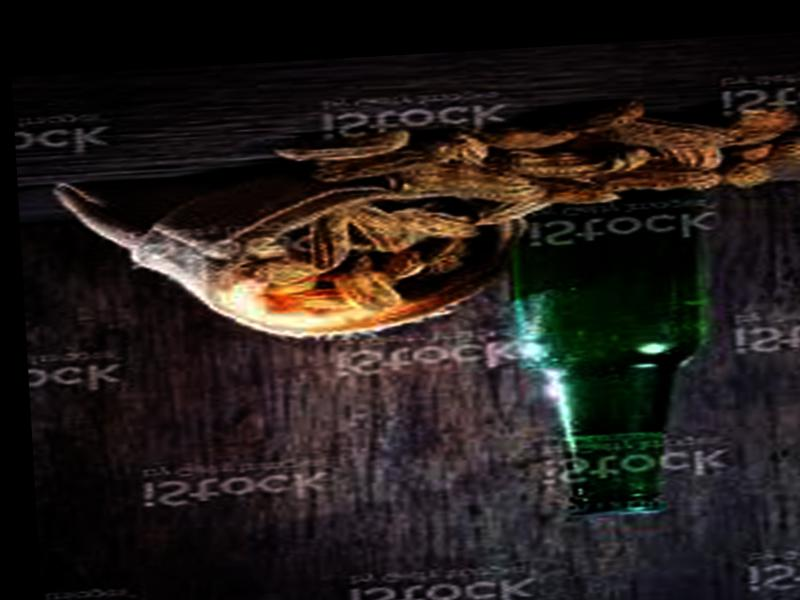Beer: (499, 164, 715, 524)
